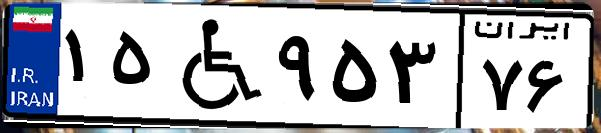1: (57, 26, 110, 100)
3: (385, 28, 445, 110)
5: (330, 28, 385, 110), (110, 28, 158, 98)
6: (525, 38, 570, 115)
7: (475, 38, 525, 113)
9: (270, 28, 330, 110)
ژ (معلولین و جانبازان): (158, 12, 270, 120)
